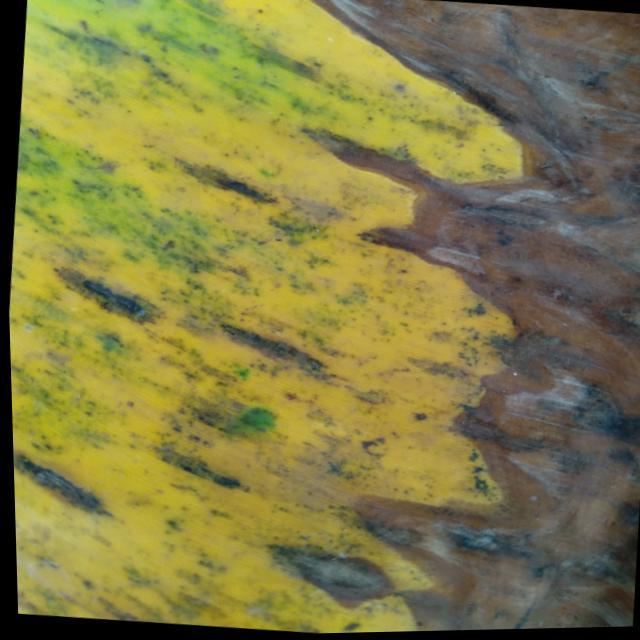Early_rust: (0, 0, 585, 627)
